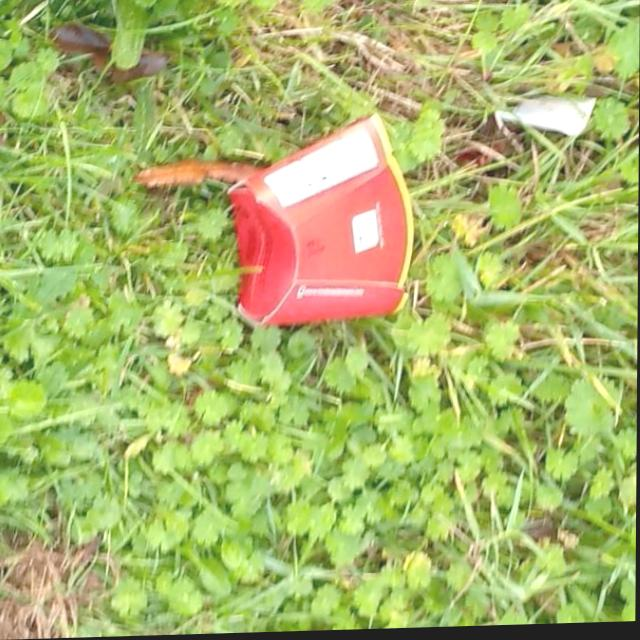Paper: (225, 111, 420, 334)
